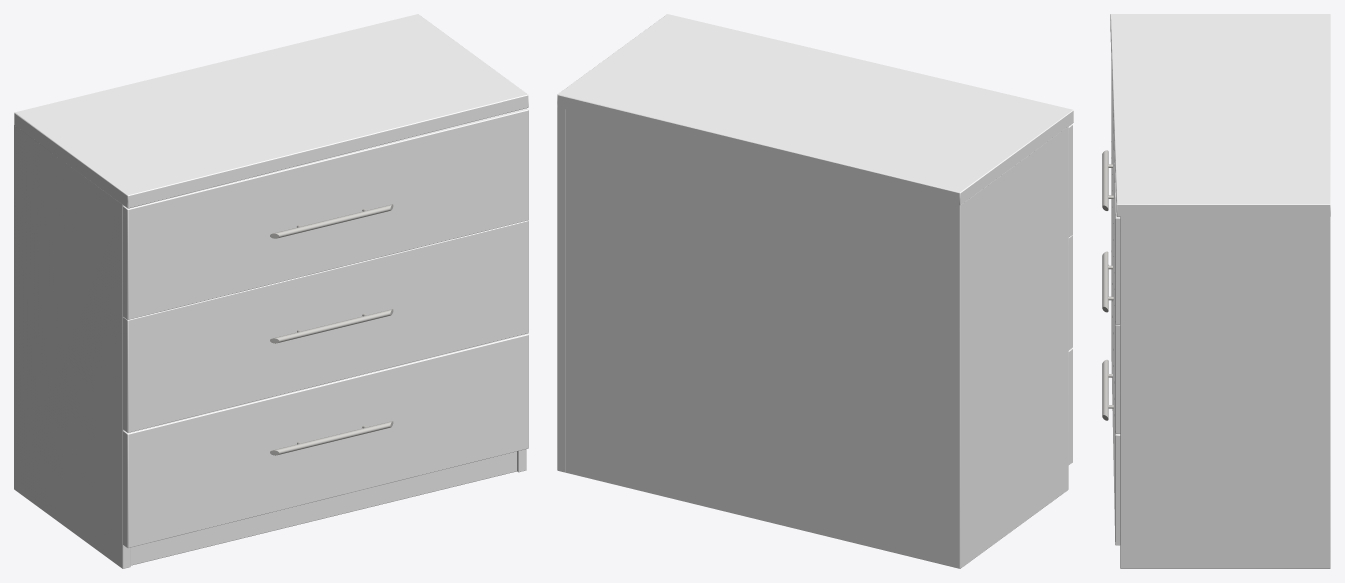
File: appliance_B07H8JRYSB.glb
The picture shows the model from 3 angles, left to right: view 1: azimuth 30°, elevation 25°; view 2: azimuth 150°, elevation 25°; view 3: azimuth 270°, elevation 25°; orthographic projection. The views are drawn at different scales.
Parts seen in each view (by area): view 1: RootNode; view 2: RootNode; view 3: RootNode.
Part boxes in pixels (x1,y1,x2,y2): RootNode: [14, 14, 528, 568]; RootNode: [557, 14, 1073, 568]; RootNode: [1102, 14, 1330, 568].
Bounding box in the file's own units: 0.8298 × 0.7399 × 0.4199.
Materials: 1 (1 with a texture image).
